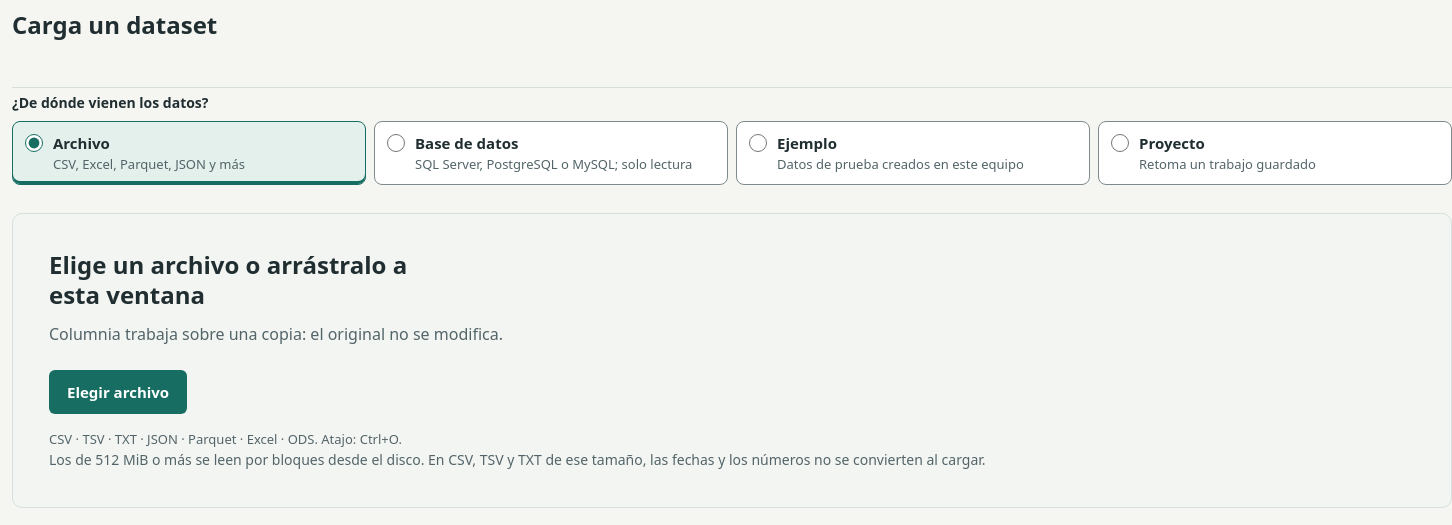
Test: LoadPhase › organiza Cargar por fuentes y muestra solo el panel de la elegida
Expected: the radio button labelled "Archivo CSV, Excel, Parquet, JSON y más" is checked, [25,134,43,152]
Expected: the button "Elegir archivo" is shown, [49,370,187,414]
Step 1. Click the radio button labelled "Base de datos SQL Server, PostgreSQL o MySQL; solo lectura" → {"x": 396, "y": 143}, box [387,134,405,152]
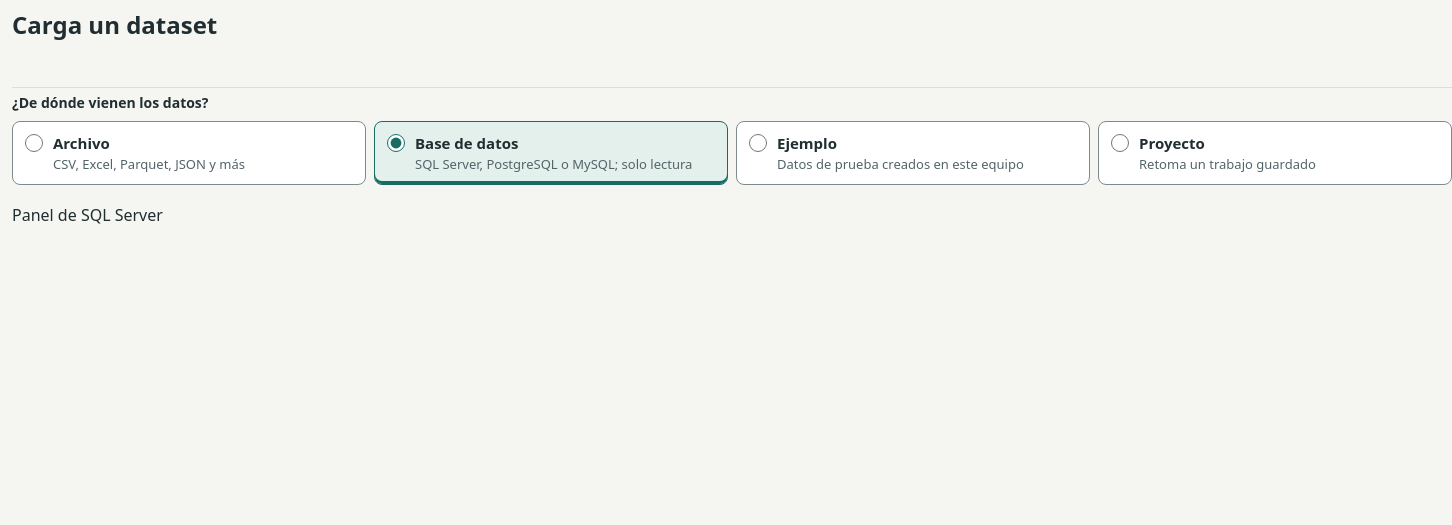
Expected: the text "Panel de SQL Server" is shown, [12,204,163,226]
Expected: the button "Elegir archivo" is gone
Step 2. Click the radio button labelled "Proyecto Retoma un trabajo guardado" → {"x": 1120, "y": 143}, box [1111,134,1129,152]
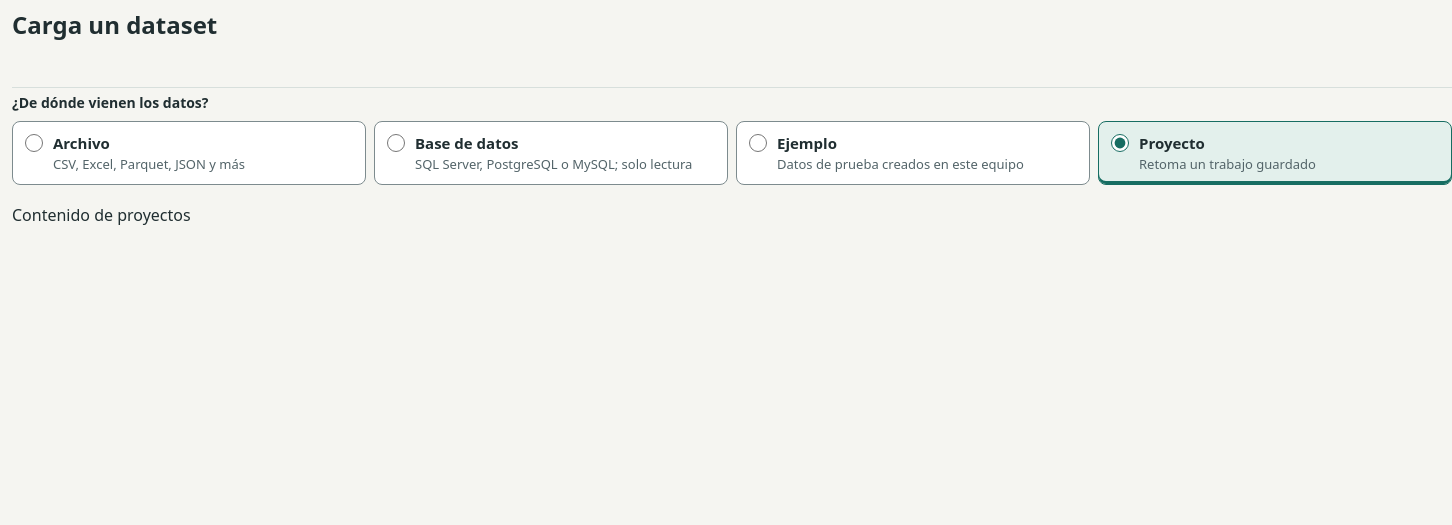
Expected: the text "Contenido de proyectos" is shown, [12,204,191,226]
Expected: the text "Panel de SQL Server" is gone
